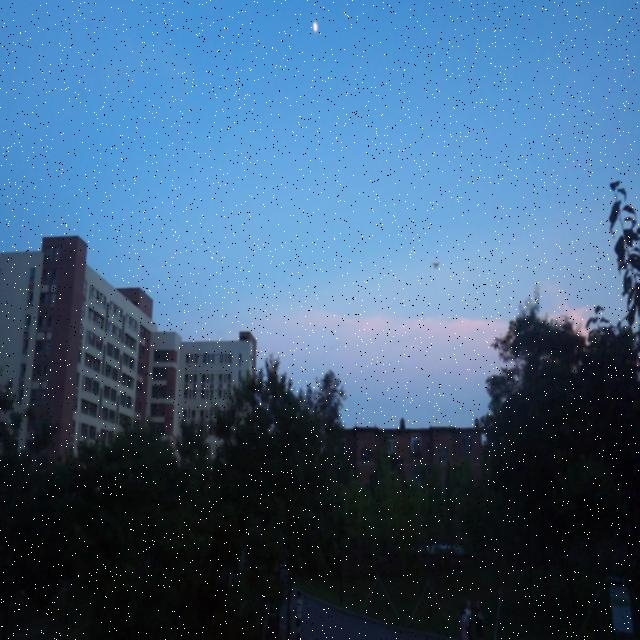UAV: (431, 262, 440, 270)
